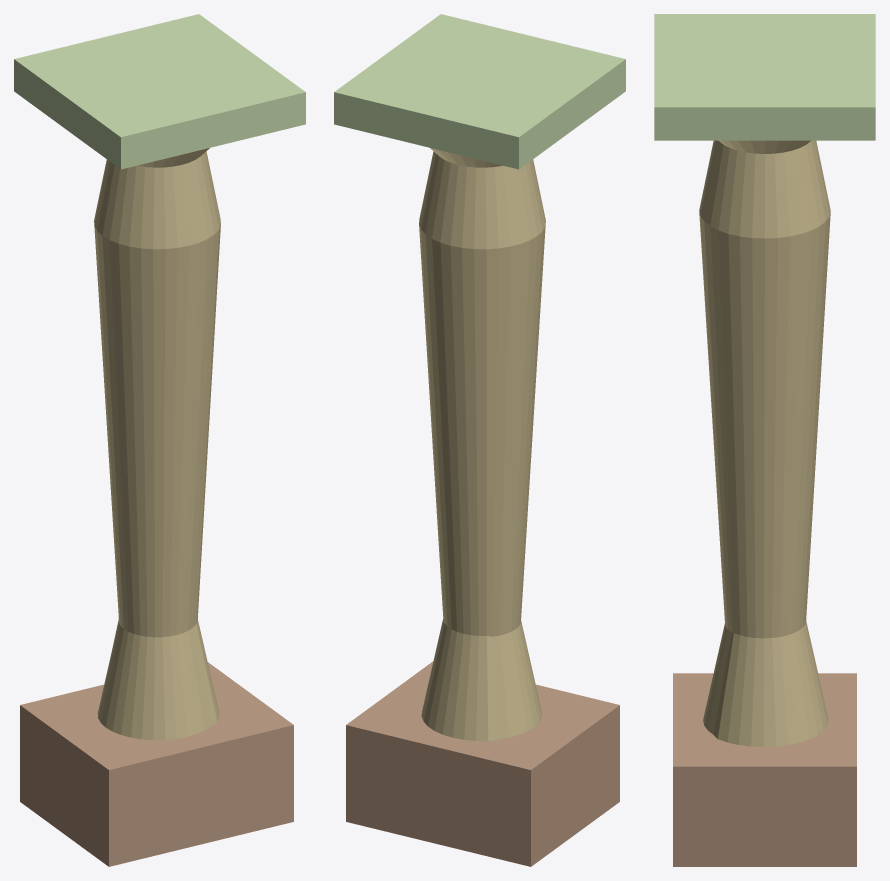
The model's file is Columna1.fbx.
3 views of the same model, side by side, from view 1: azimuth 30°, elevation 25°; view 2: azimuth 150°, elevation 25°; view 3: azimuth 270°, elevation 25° (orthographic). The views are drawn at different scales.
Visible parts, largest first — view 1: Cylinder.004, Cube.018, Cube.016; view 2: Cylinder.004, Cube.018, Cube.016; view 3: Cylinder.004, Cube.016, Cube.018.
Boxes of the visible parts, x1,y1,x2,y2 form: Cylinder.004: [94, 148, 220, 740]; Cube.018: [20, 662, 293, 866]; Cube.016: [14, 14, 305, 169]; Cylinder.004: [419, 148, 545, 741]; Cube.018: [346, 661, 619, 866]; Cube.016: [334, 14, 625, 169]; Cylinder.004: [699, 140, 830, 747]; Cube.016: [654, 14, 875, 140]; Cube.018: [673, 673, 856, 866].
Size of the model in its own units: 305 by 1140 by 300.
3 materials, 3 textured.
